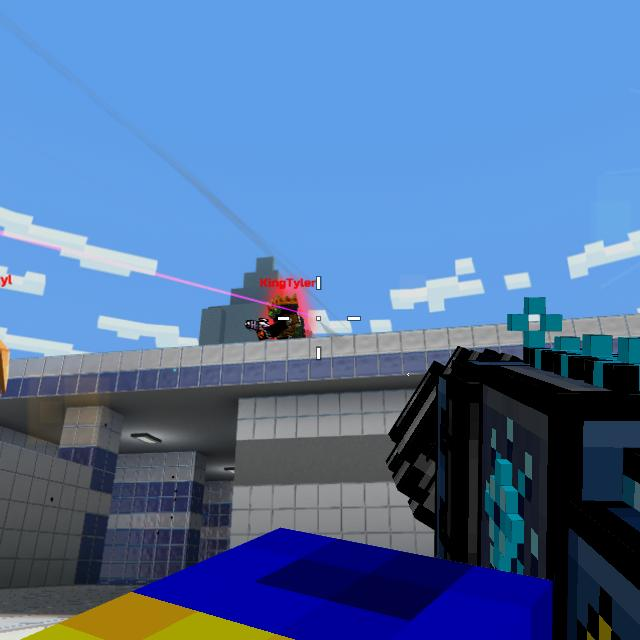Enemy: (257, 295, 305, 342)
